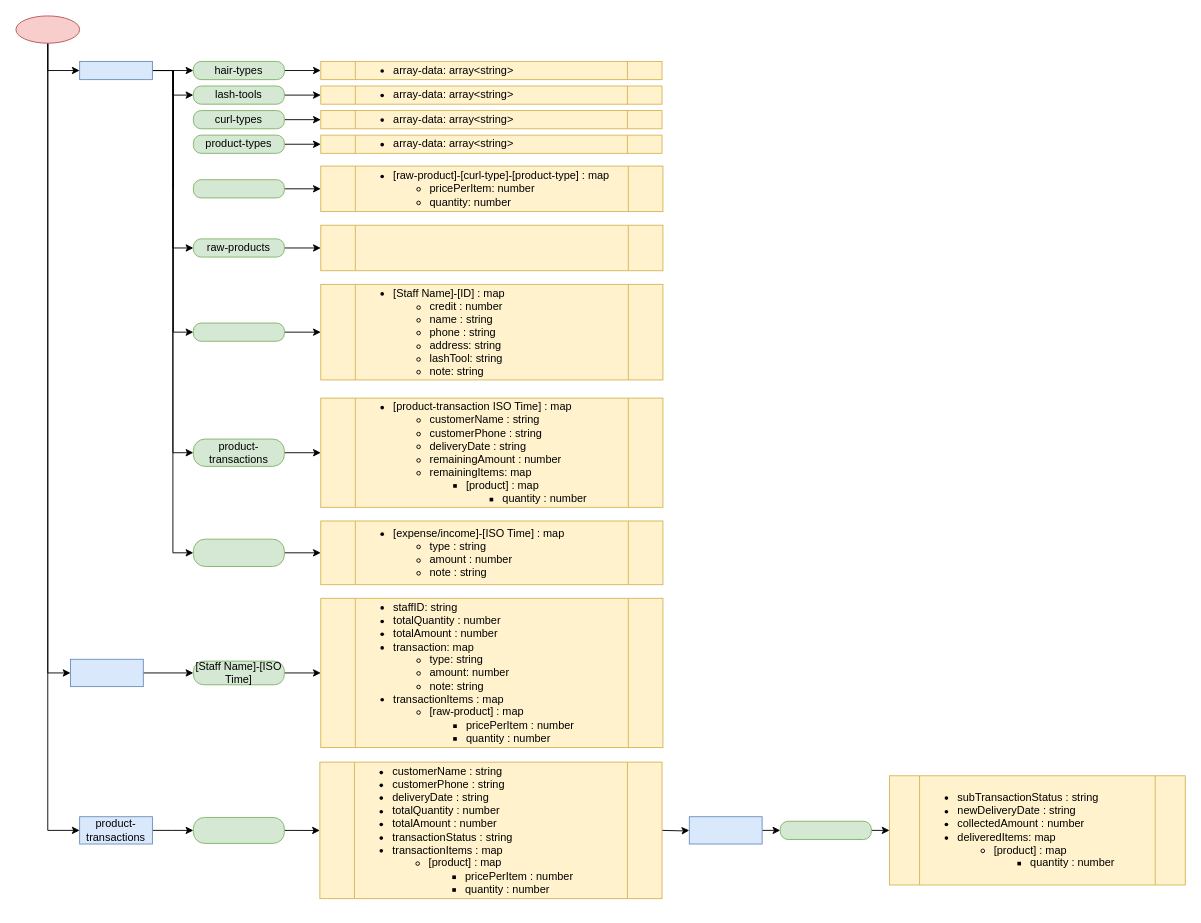
Some shapes in this 1201 by 923 pixel diagram are drawn without their labels. The box of each missing label's shape, as (x1, y1, x2, y2) in pixels:
[Customer Name]-[ISO Time]: (192, 817, 284, 843)
[ISO Time]: (779, 820, 871, 839)
[lash-tool]-[hair-type] : map pricePerItem: number quantity: number: (320, 224, 663, 271)
products: (192, 179, 284, 198)
raw-product-transactions: (70, 658, 143, 687)
refs: (79, 61, 152, 80)
ROOT: (15, 15, 80, 43)
staffs: (192, 322, 284, 341)
sub-product-transactions: (688, 816, 762, 844)
transactions: (192, 538, 284, 566)
